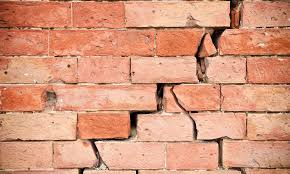stairstep_crack: (76, 0, 243, 173), (171, 83, 244, 173)
